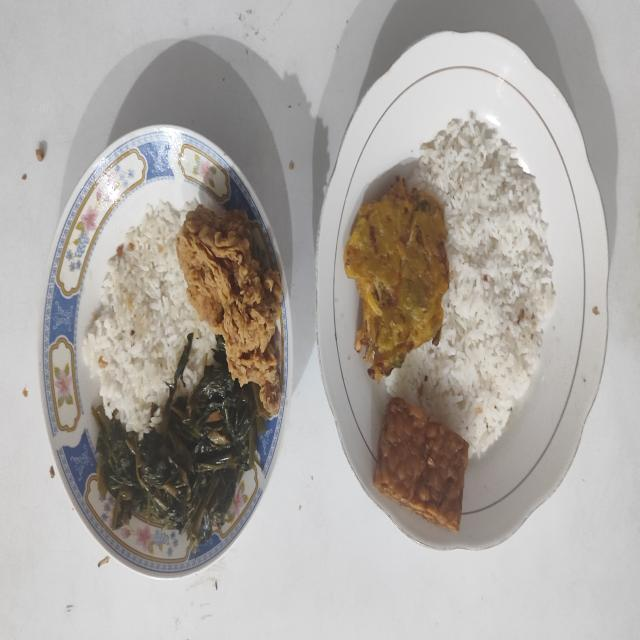nasi_putih: (386, 112, 555, 457), (82, 200, 216, 440)
tempe_goreng: (374, 398, 468, 530)
tumis_kangkung: (94, 334, 266, 547)
